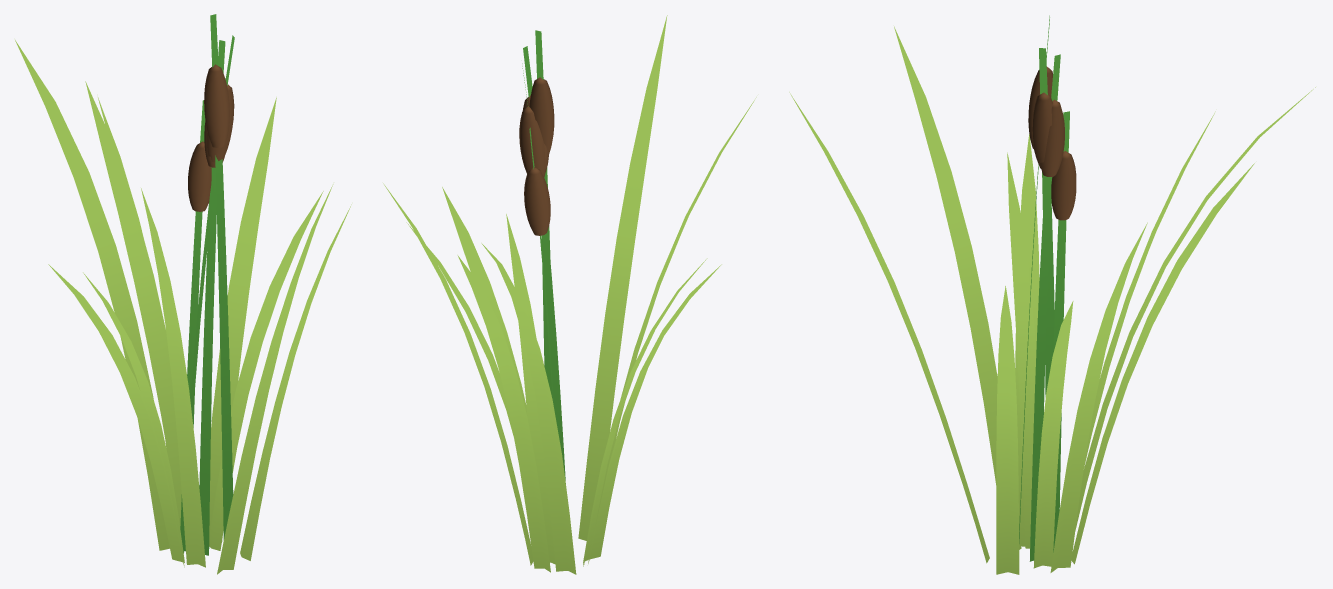
File: cattail1.gltf
The picture shows the model from 3 angles, left to right: view 1: azimuth 30°, elevation 25°; view 2: azimuth 150°, elevation 25°; view 3: azimuth 270°, elevation 25°; orthographic projection. The views are drawn at different scales.
Parts seen in each view (by area): view 1: cattail1_blade_LOD0, cattail1_stalk_LOD0, cattail1_head_LOD0; view 2: cattail1_blade_LOD0, cattail1_head_LOD0, cattail1_stalk_LOD0; view 3: cattail1_blade_LOD0, cattail1_stalk_LOD0, cattail1_head_LOD0.
Part boxes in pixels (left/top/right/bottom): cattail1_blade_LOD0: left=15, top=40, right=351, bottom=574; cattail1_stalk_LOD0: left=180, top=14, right=234, bottom=555; cattail1_head_LOD0: left=188, top=64, right=234, bottom=211; cattail1_blade_LOD0: left=383, top=15, right=756, bottom=574; cattail1_head_LOD0: left=519, top=77, right=554, bottom=235; cattail1_stalk_LOD0: left=522, top=30, right=565, bottom=483; cattail1_blade_LOD0: left=789, top=26, right=1315, bottom=574; cattail1_stalk_LOD0: left=1019, top=15, right=1069, bottom=561; cattail1_head_LOD0: left=1028, top=66, right=1076, bottom=220.
Size of what is drawn, in the model's own units: 0.9508 by 1.62 by 1.41.
